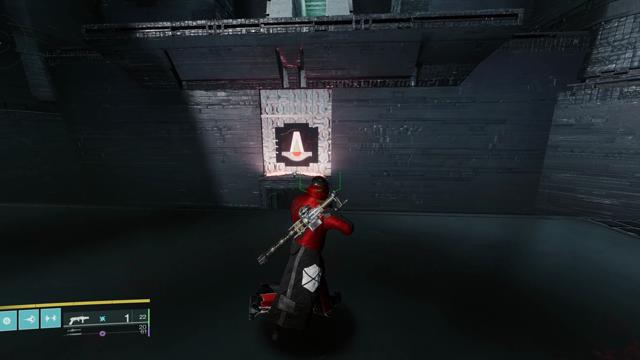enter: (281, 129, 313, 162)
